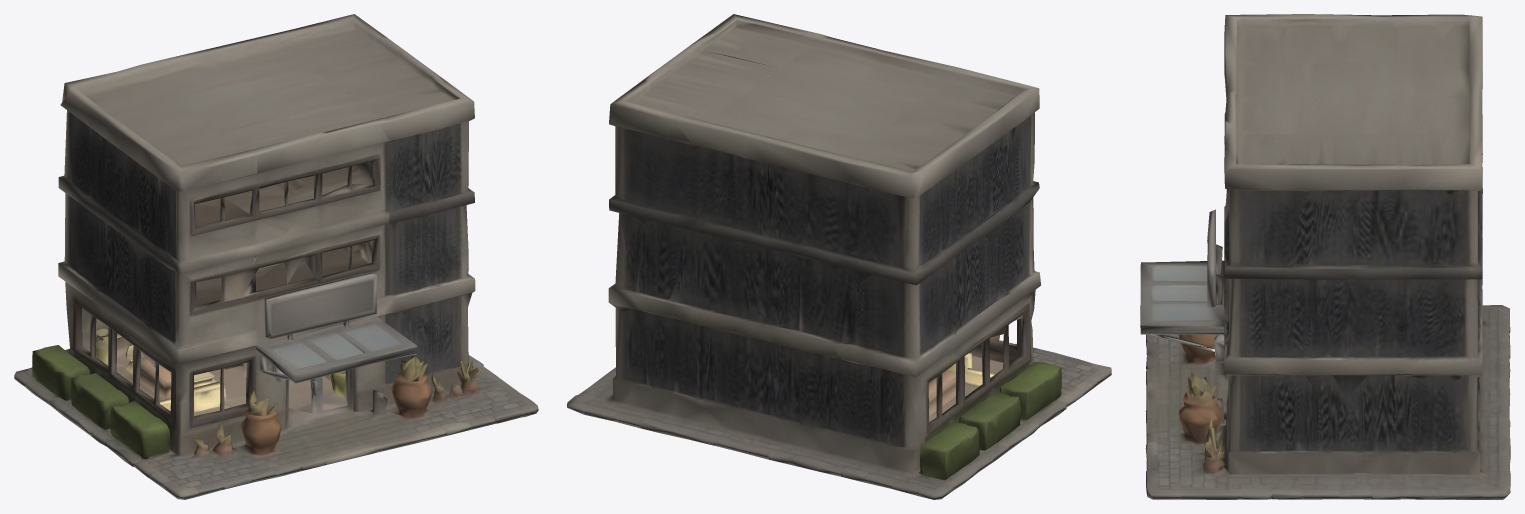
The model's file is hotel_main.glb.
3 views of the same model, side by side, from view 1: azimuth 30°, elevation 25°; view 2: azimuth 150°, elevation 25°; view 3: azimuth 270°, elevation 25° (orthographic). The views are drawn at different scales.
Visible parts, largest first — view 1: tripo_node_47635488-ac7f-448c-aea5-7092b5e9756f; view 2: tripo_node_47635488-ac7f-448c-aea5-7092b5e9756f; view 3: tripo_node_47635488-ac7f-448c-aea5-7092b5e9756f.
Boxes of the visible parts, x1,y1,x2,y2 form: tripo_node_47635488-ac7f-448c-aea5-7092b5e9756f: (14,14,538,499); tripo_node_47635488-ac7f-448c-aea5-7092b5e9756f: (567,14,1111,499); tripo_node_47635488-ac7f-448c-aea5-7092b5e9756f: (1140,14,1510,499).
Size of the model in its own units: 1 by 0.7738 by 0.8214.
1 material, 1 textured.
